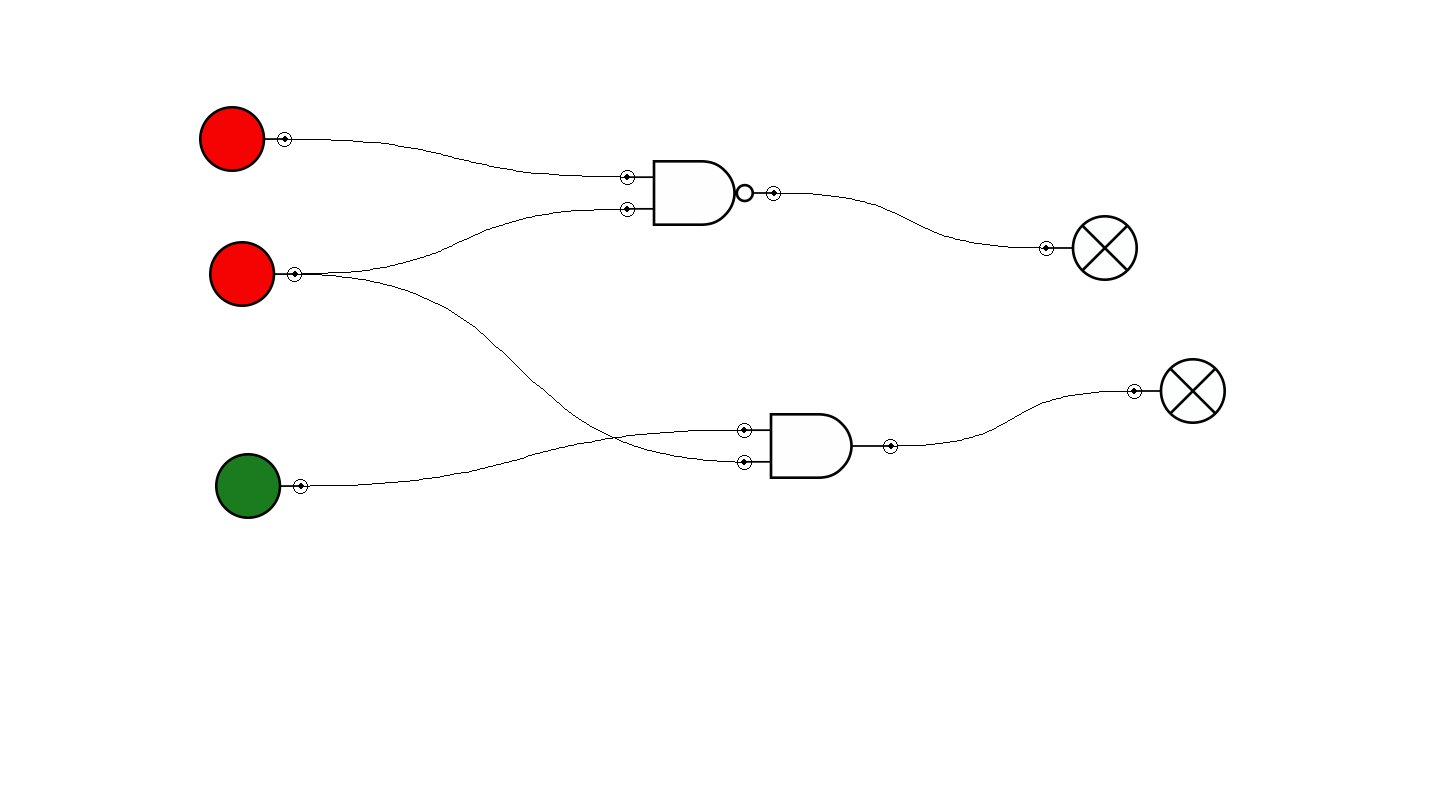and: (737, 413, 898, 479)
bulb: (1127, 358, 1226, 424), (1039, 215, 1138, 281)
nand: (620, 160, 781, 226)
switch_False: (199, 106, 292, 172), (209, 241, 302, 307)
switch_True: (215, 453, 308, 519)
